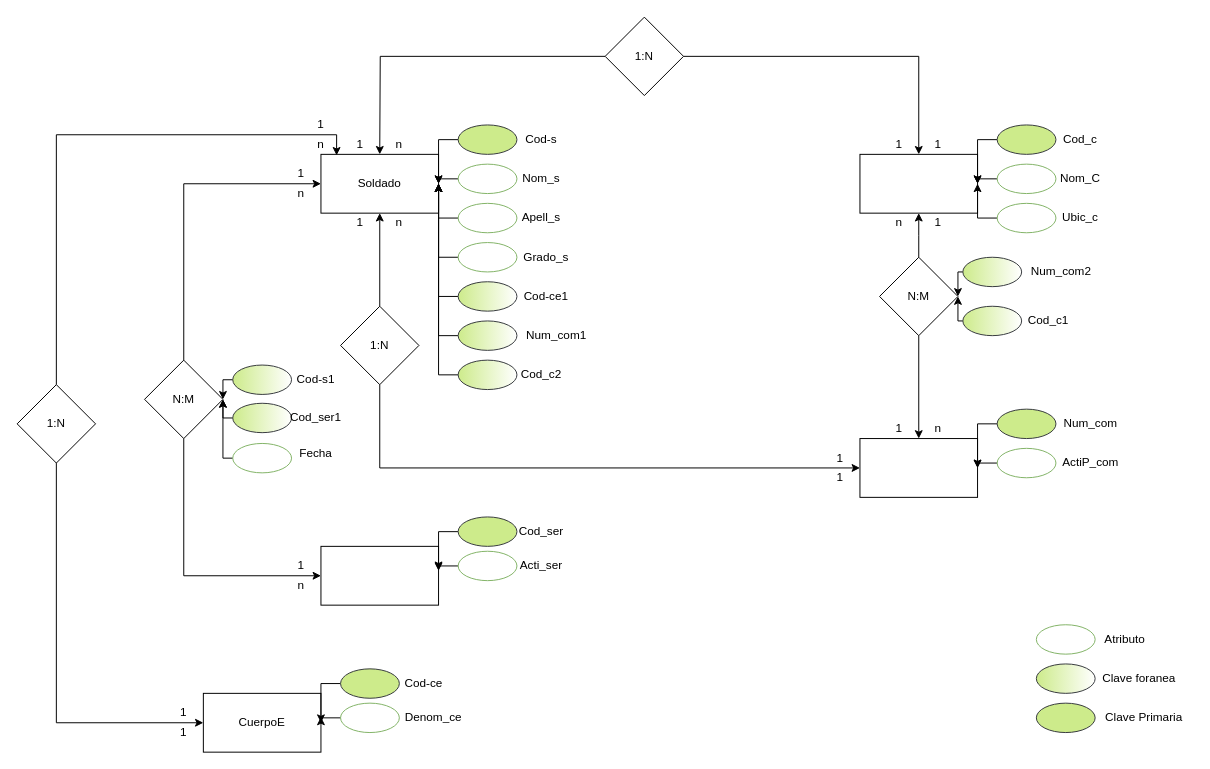
This 1210x769 diagram has some shape labels left out. The shapes that lost their labels are listed below. From the top down, each one's centre as x and y in pixels, then its label:
At point (918, 183): "Cuartel".
At point (918, 467): "Compañía".
At point (379, 575): "Servicio".
